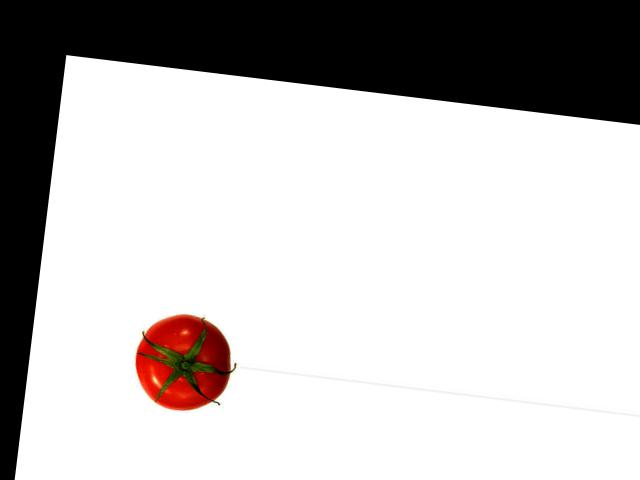tomato: (129, 309, 236, 415)
